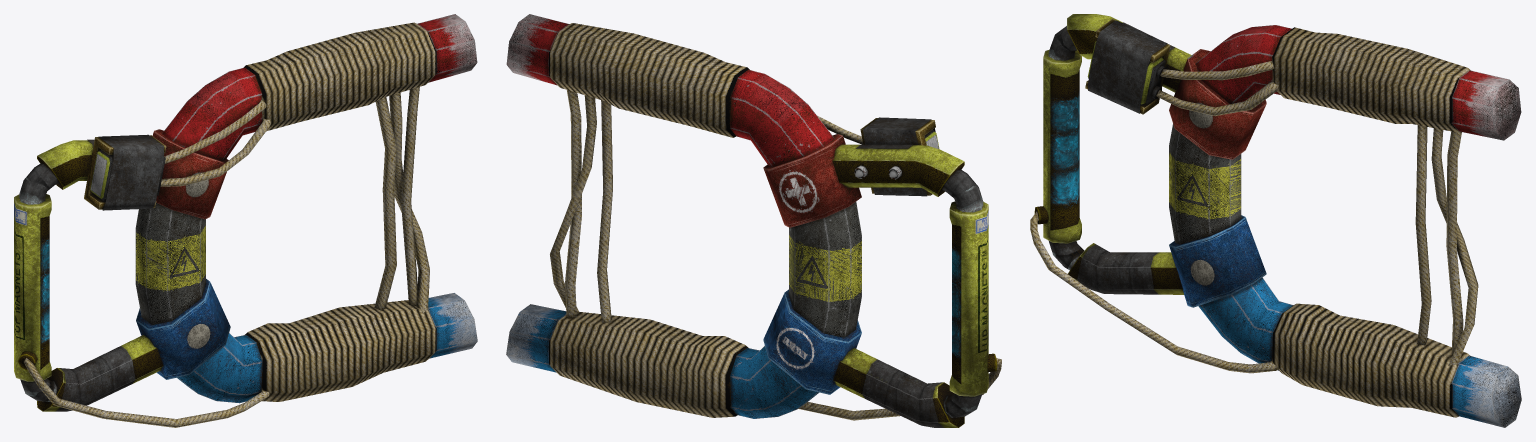
The model's file is magnet.glb.
The picture shows the model from 3 angles, left to right: view 1: azimuth 30°, elevation 25°; view 2: azimuth 150°, elevation 25°; view 3: azimuth 330°, elevation 25°; orthographic projection. The views are drawn at different scales.
Visible parts, largest first — view 1: PMagnet_STM; view 2: PMagnet_STM; view 3: PMagnet_STM.
Boxes of the visible parts, box(x1,y1,x2,y2) form: PMagnet_STM: box(14, 14, 477, 427); PMagnet_STM: box(506, 14, 1001, 427); PMagnet_STM: box(1030, 14, 1521, 427).
Size of the model in its own units: 0.2908 by 0.2077 by 0.0458.
1 material, 1 textured.
